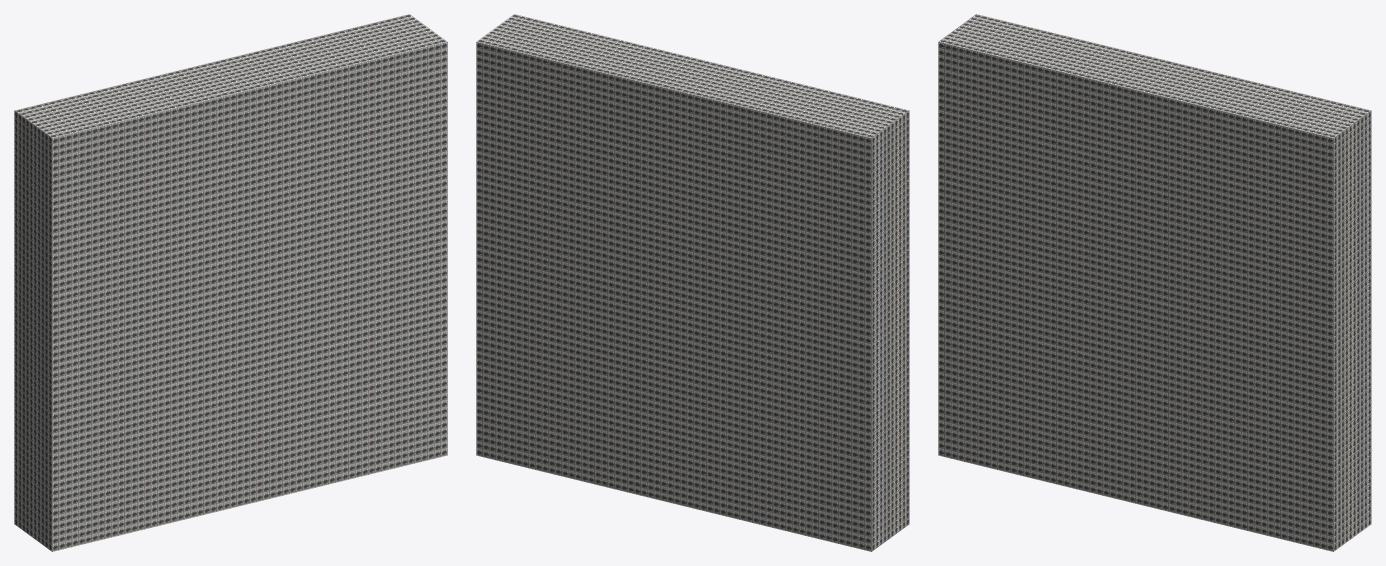
Rendered from mantech.obj.
3 renders of one model, left to right at view 1: azimuth 30°, elevation 25°; view 2: azimuth 150°, elevation 25°; view 3: azimuth 330°, elevation 25°, orthographic.
Visible parts, largest first — view 1: Body1; view 2: Body1; view 3: Body1.
Boxes of the visible parts, x1=… form: Body1: x1=14, y1=14, x2=447, y2=551; Body1: x1=476, y1=14, x2=909, y2=551; Body1: x1=938, y1=14, x2=1371, y2=551.
Bounding box in the file's own units: 60 × 60 × 10.
Materials: 1 (1 with a texture image).
